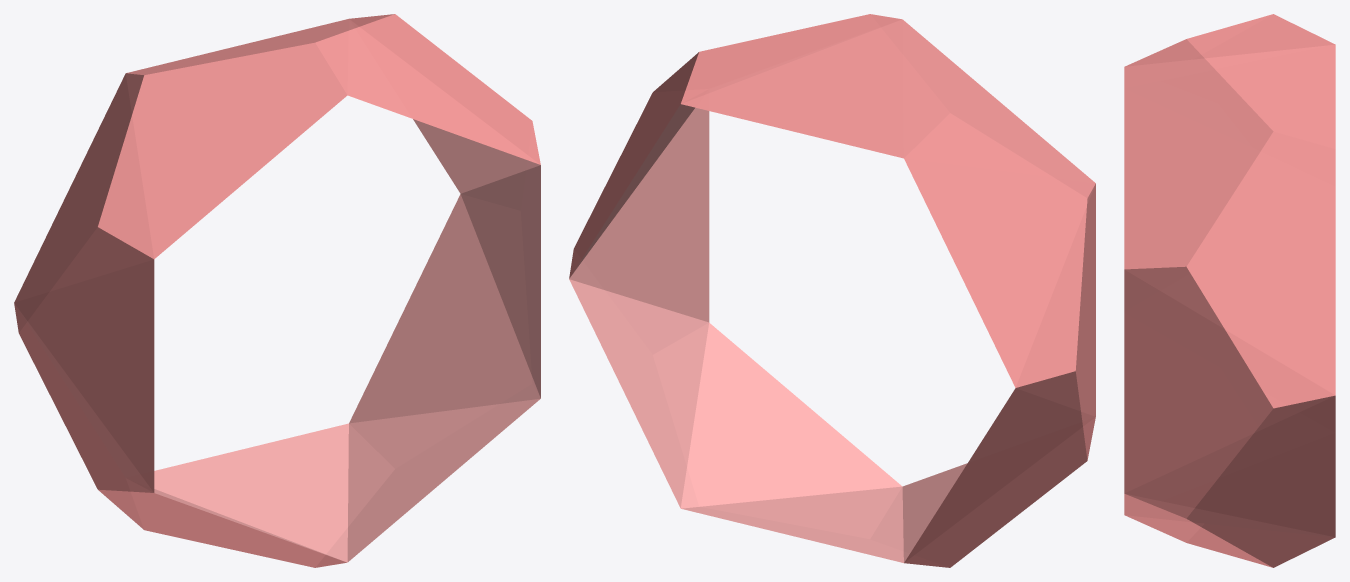
Rendered from HexagonalTrapezohedronAntiprismToroid.obj.
3 renders of one model, left to right at view 1: azimuth 30°, elevation 25°; view 2: azimuth 150°, elevation 25°; view 3: azimuth 270°, elevation 25°, orthographic. The views are drawn at different scales.
Bounding box in the file's own units: 4.5 × 4.5 × 1.71.
